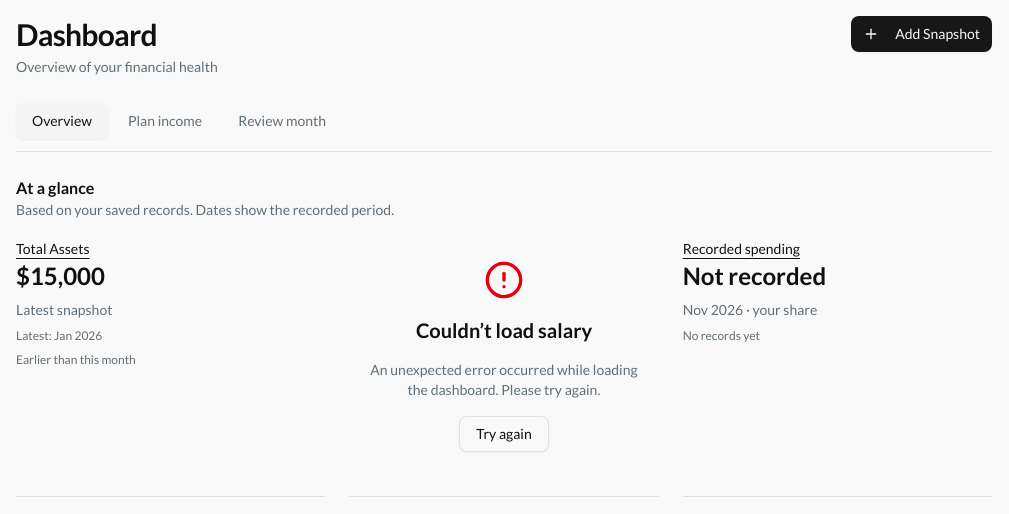
Test: keeps a failed salary summary unavailable while loaded assets remain visible
Expected: the link "Total Assets" is shown, [16,240,90,257]
Expected: the text "Current Salary" is not shown
Click the button "Try again" at point(504, 434), box [459,416,549,452]
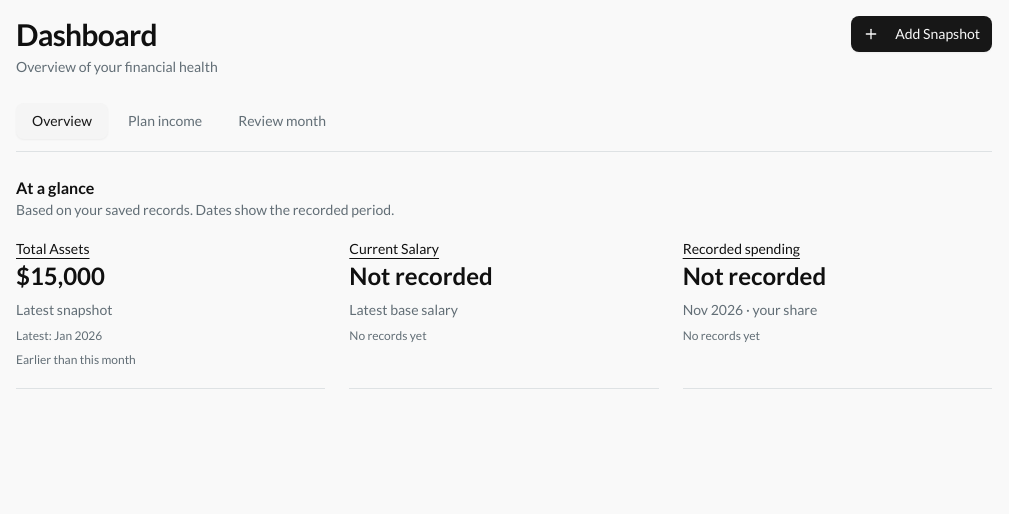
Expected: the link "Current Salary" is shown, [349,240,439,257]
